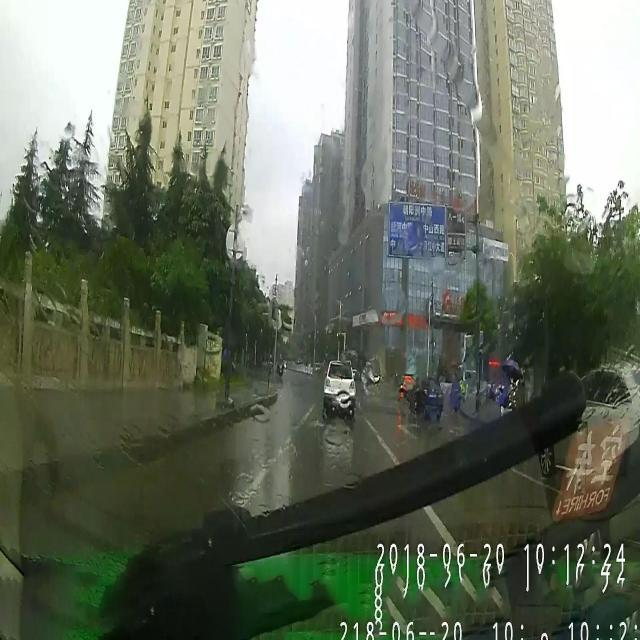car: (536, 366, 640, 472), (322, 356, 355, 418), (407, 374, 443, 420)
